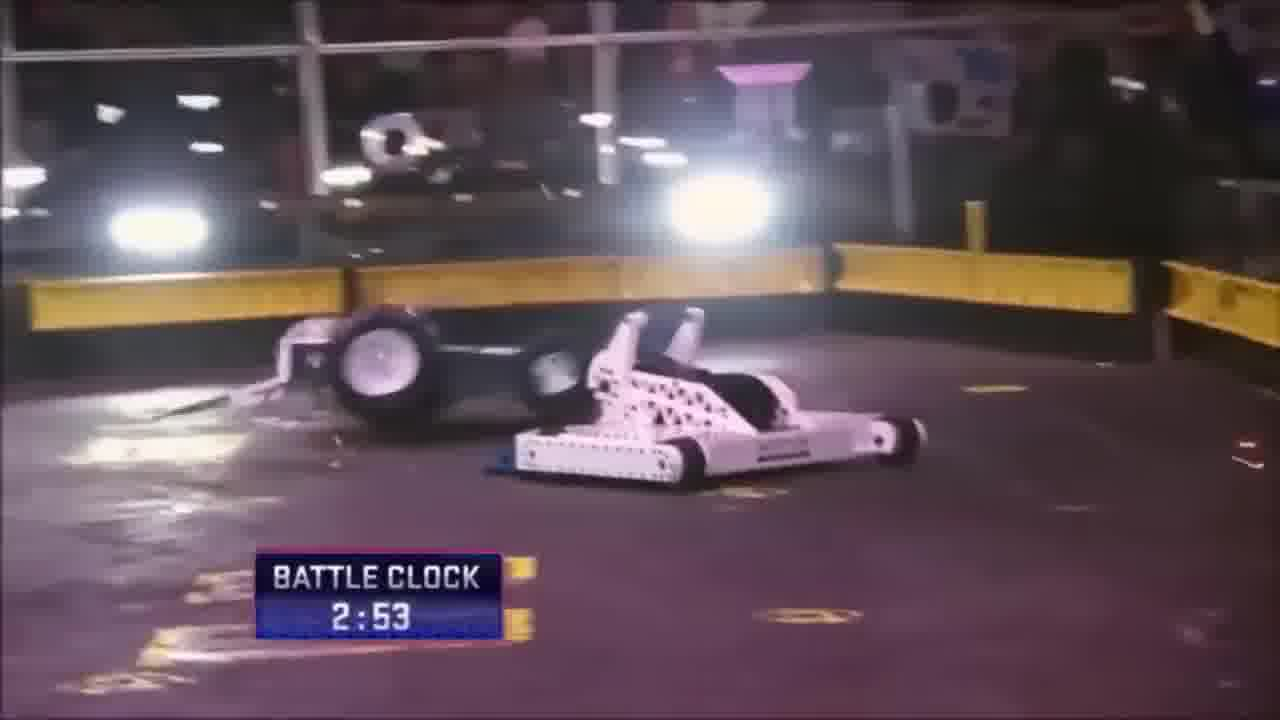combatbot: (497, 364, 929, 494), (275, 256, 589, 428)
